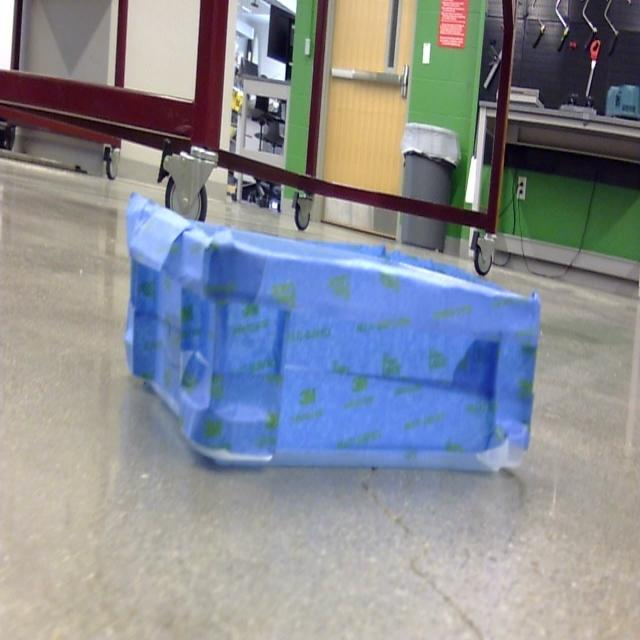bucket: (122, 196, 542, 479)
